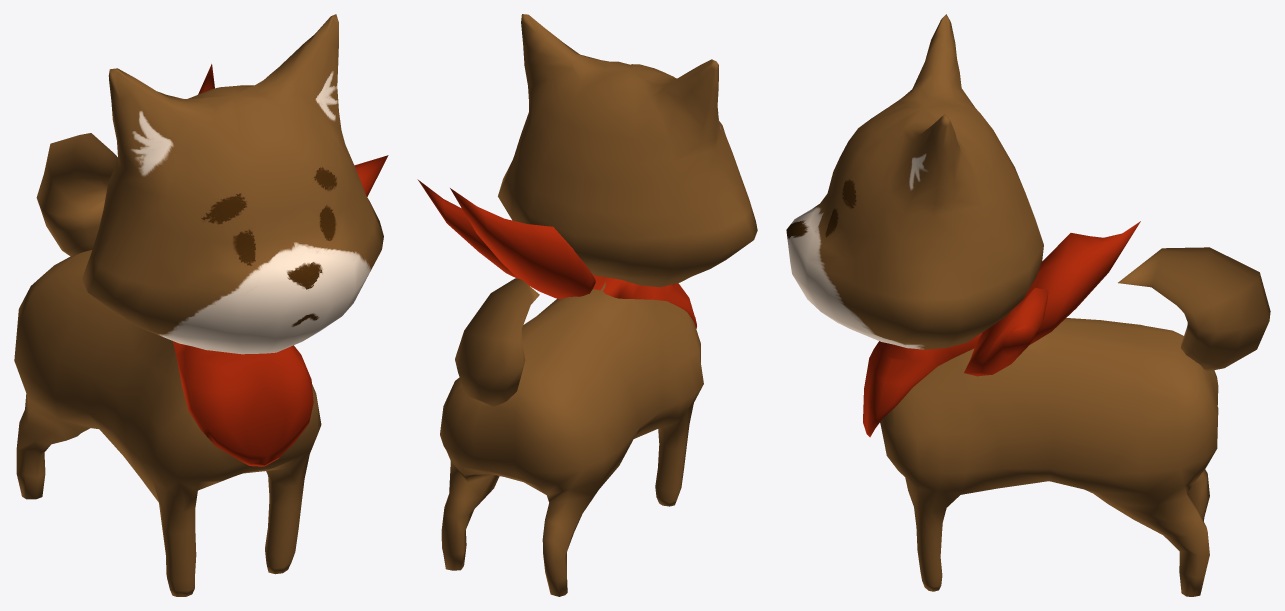
Rendered from dog.fbx.
3 views of the same model, side by side, from view 1: azimuth 30°, elevation 25°; view 2: azimuth 150°, elevation 25°; view 3: azimuth 270°, elevation 25° (orthographic). The views are drawn at different scales.
Parts seen in each view (by area): view 1: head1, body, bandana, tail, tail1; view 2: head1, body, tail, tail2, bandana, tail1; view 3: body, head1, tail, tail2, bandana, tail1.
Part boxes in pixels (x1=…): head1: x1=82, y1=14, x2=383, y2=354; body: x1=14, y1=250, x2=321, y2=596; bandana: x1=172, y1=341, x2=313, y2=466; tail: x1=36, y1=133, x2=117, y2=256; tail1: x1=354, y1=155, x2=388, y2=196; head1: x1=498, y1=14, x2=757, y2=287; body: x1=440, y1=282, x2=703, y2=596; tail: x1=455, y1=278, x2=539, y2=406; tail2: x1=450, y1=188, x2=595, y2=299; bandana: x1=592, y1=274, x2=696, y2=328; tail1: x1=417, y1=179, x2=517, y2=278; body: x1=880, y1=318, x2=1218, y2=596; head1: x1=786, y1=14, x2=1043, y2=349; tail: x1=1118, y1=247, x2=1270, y2=371; tail2: x1=1024, y1=221, x2=1140, y2=344; bandana: x1=863, y1=332, x2=982, y2=437; tail1: x1=964, y1=287, x2=1048, y2=376.
Size of the model in its own units: 7.91 by 11.67 by 10.24.
1 material, 1 textured.
